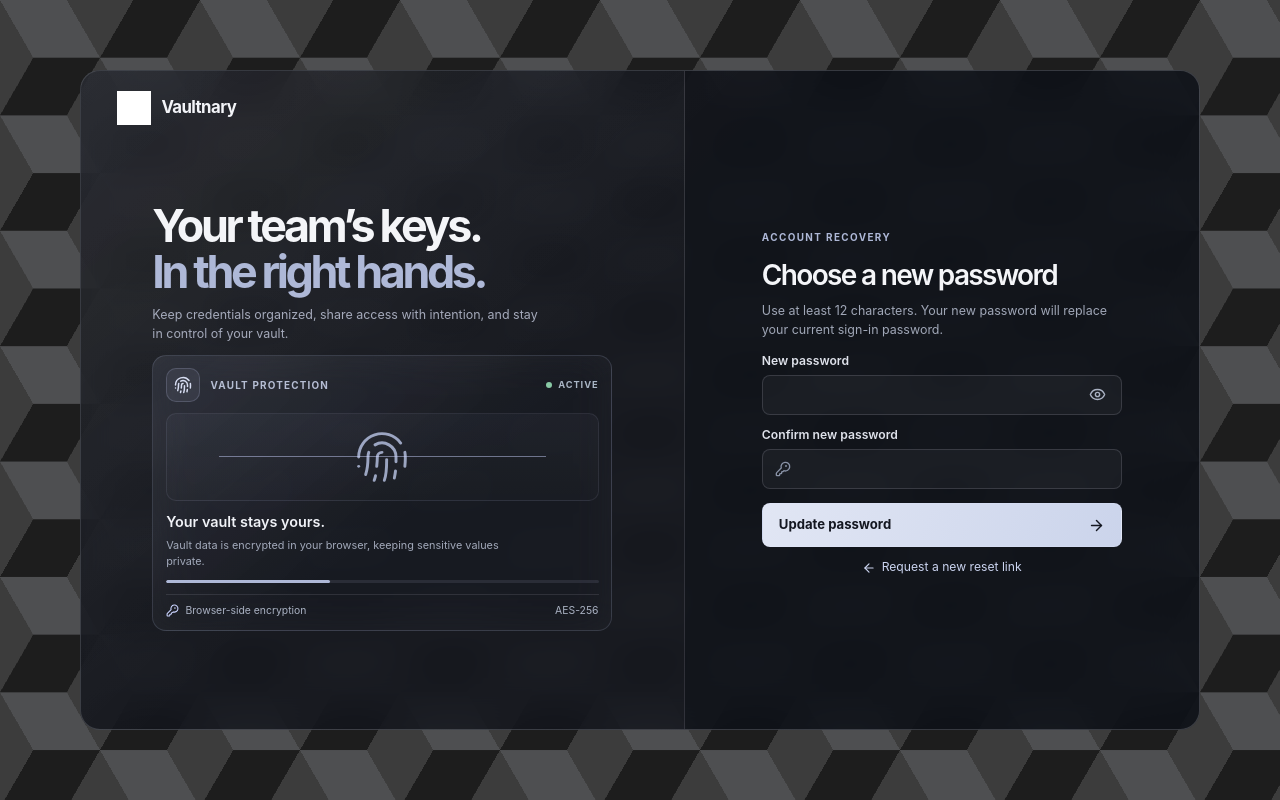
Test: ResetPasswordPage › explains an expired or invalid reset link
The width and height of the screenshot is (1280, 800).
Type "correct-horse-battery" into the password field labelled "New password" at (942, 395), box [762, 375, 1122, 415]
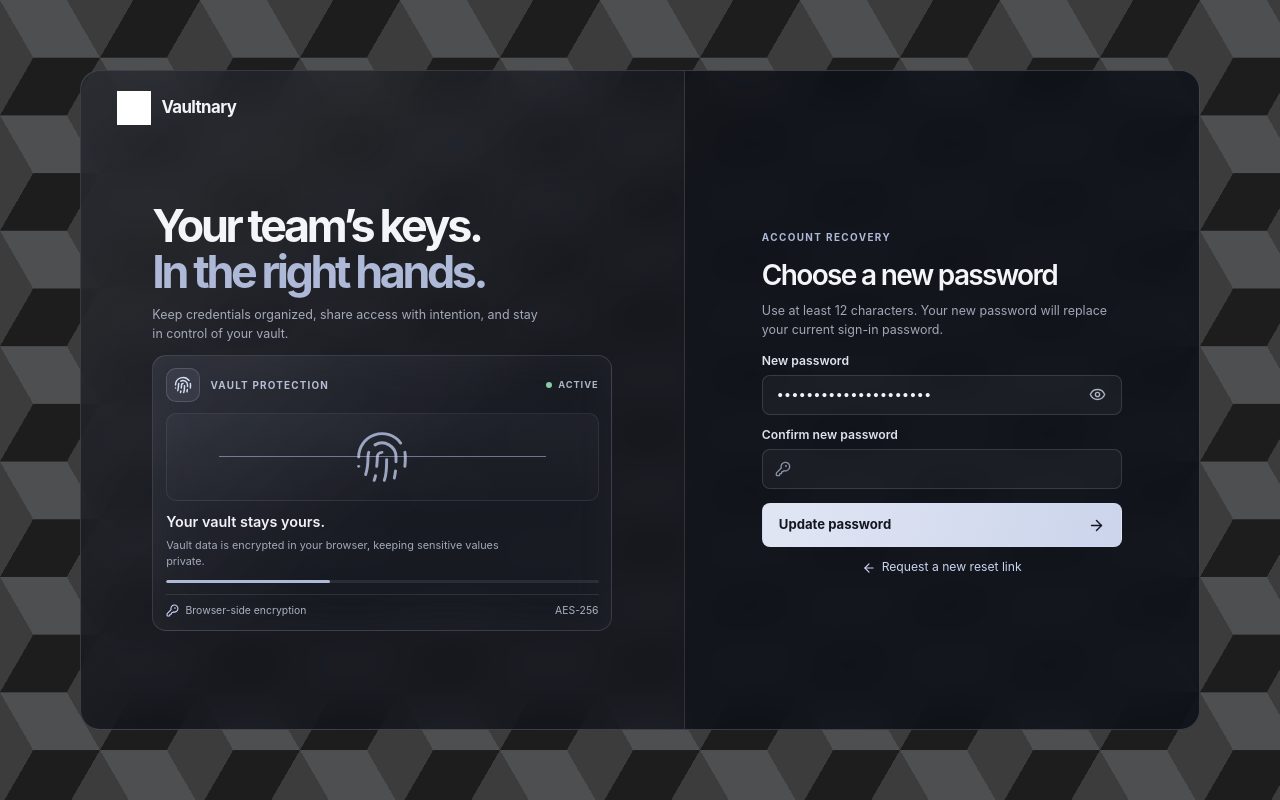
Type "correct-horse-battery" into the password field labelled "Confirm new password" at (942, 469), box [762, 449, 1122, 489]
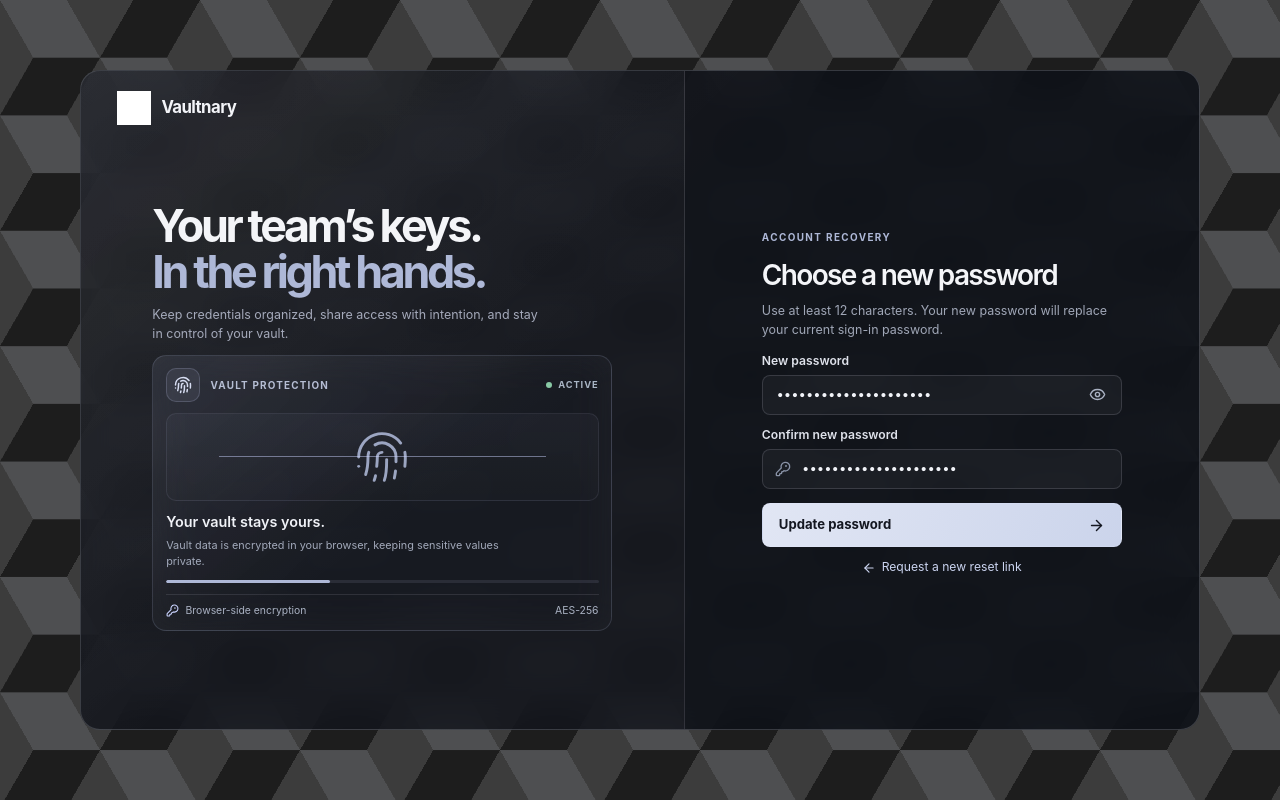
Click the button "Update password" at (835, 524), box [762, 503, 1122, 547]
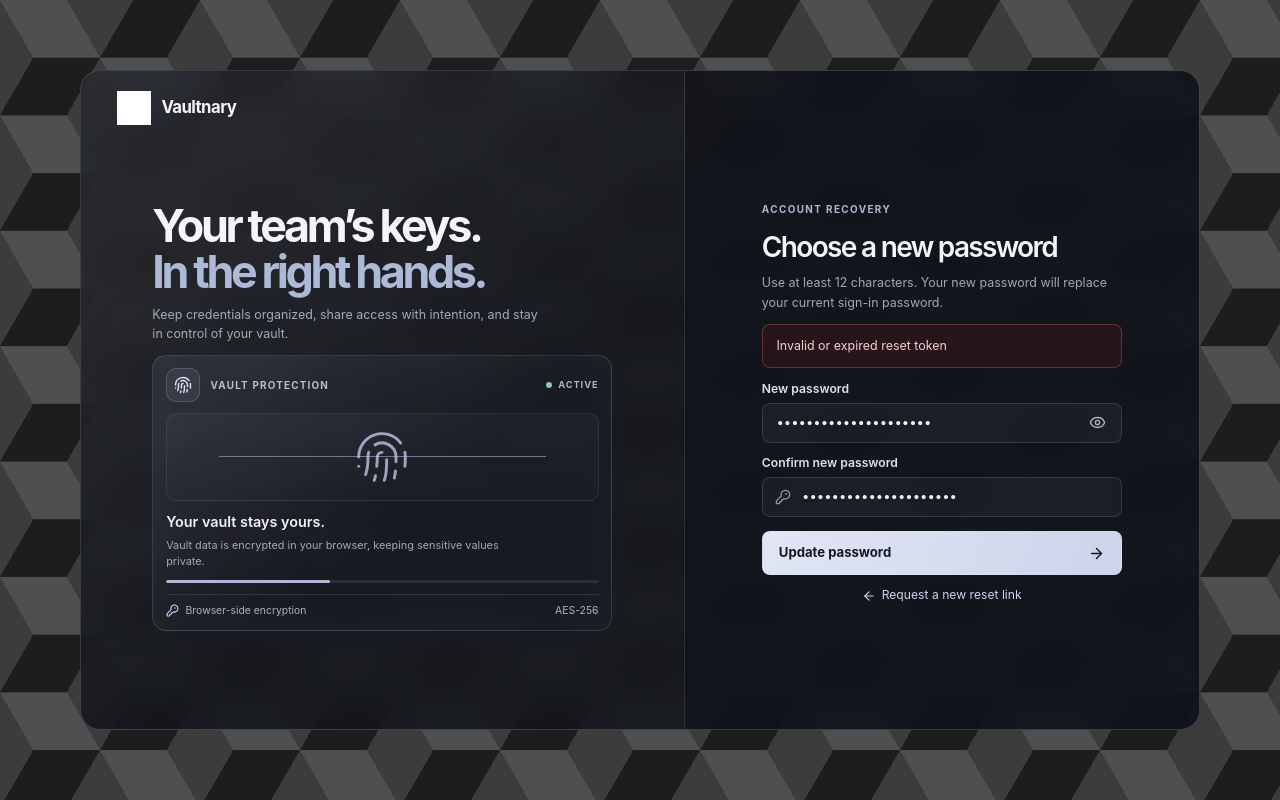
Expected: the link "Request a new reset link" is shown, [862, 587, 1022, 602]
Now the message reads "Invalid or expired reset token", box [776, 338, 947, 353]
